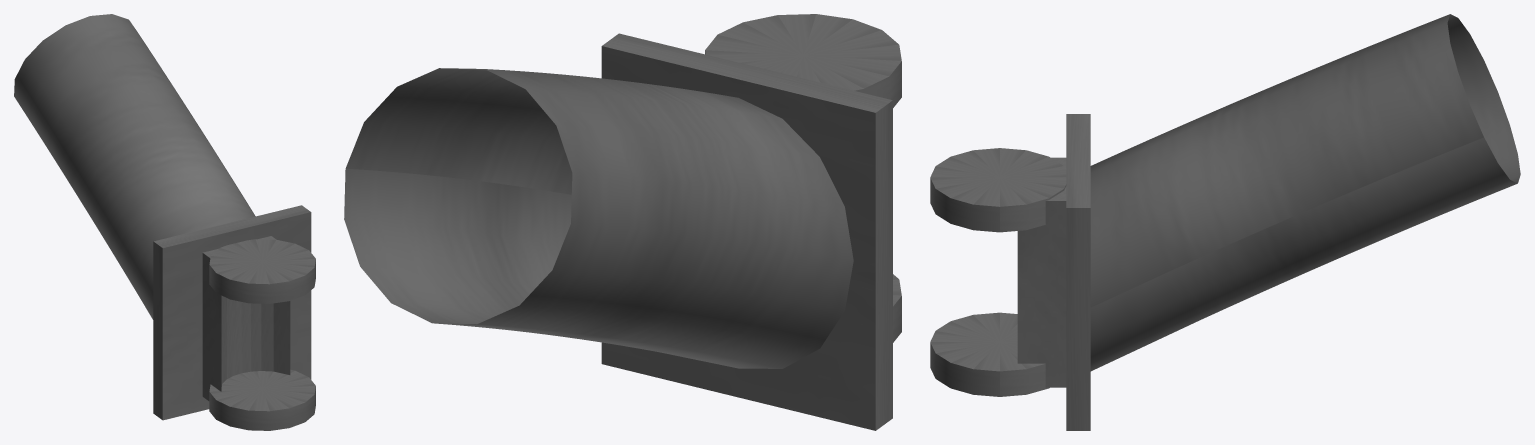
File: mastarmcurve_8x2_c0_ped.obj
The picture shows the model from 3 angles, left to right: view 1: azimuth 30°, elevation 25°; view 2: azimuth 150°, elevation 25°; view 3: azimuth 270°, elevation 25°; orthographic projection. The views are drawn at different scales.
Parts seen in each view (by area): view 1: mastarm_8x2_c0_ped; view 2: mastarm_8x2_c0_ped; view 3: mastarm_8x2_c0_ped.
Part boxes in pixels (x1,y1,x2,y2): mastarm_8x2_c0_ped: [14, 14, 315, 430]; mastarm_8x2_c0_ped: [344, 14, 901, 430]; mastarm_8x2_c0_ped: [930, 14, 1520, 430].
Size of the model in its own units: 0.6875 by 1.23 by 1.83.
